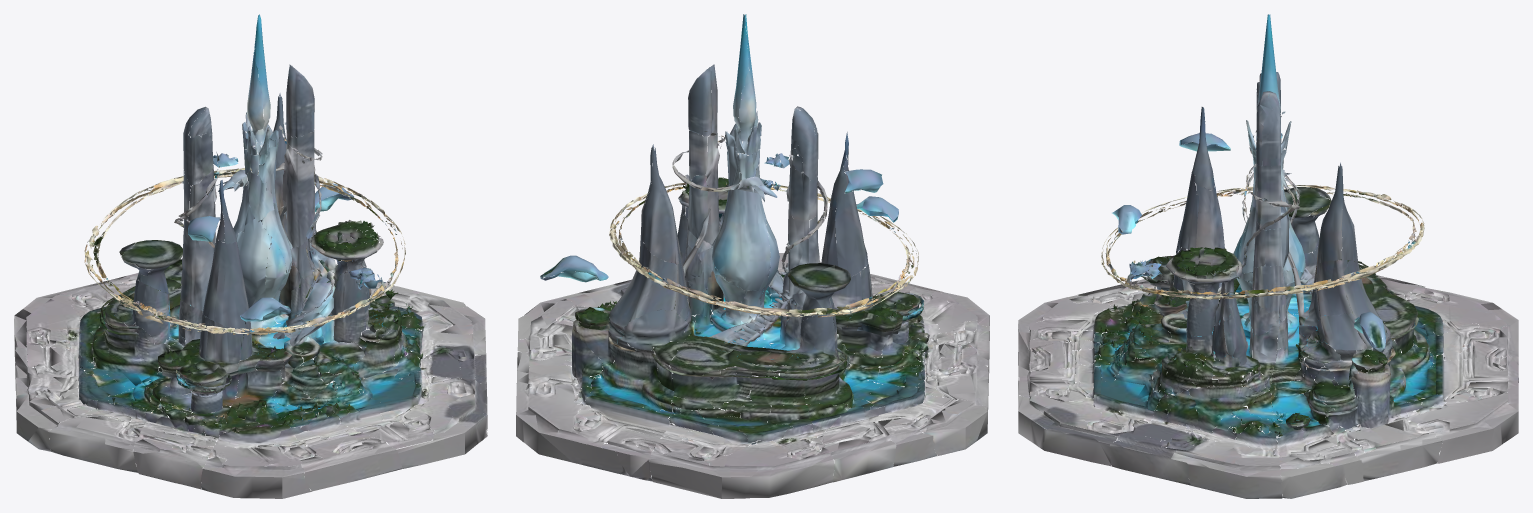
The model's file is district-neo.glb.
3 renders of one model, left to right at view 1: azimuth 30°, elevation 25°; view 2: azimuth 150°, elevation 25°; view 3: azimuth 270°, elevation 25°, orthographic.
Visible parts, largest first — view 1: tripo_node_9c18bd5a-b65d-4456-85b5-e72f291003d3; view 2: tripo_node_9c18bd5a-b65d-4456-85b5-e72f291003d3; view 3: tripo_node_9c18bd5a-b65d-4456-85b5-e72f291003d3.
Part boxes in pixels (box(x1,y1,x2,y2)): tripo_node_9c18bd5a-b65d-4456-85b5-e72f291003d3: box(14, 14, 487, 498); tripo_node_9c18bd5a-b65d-4456-85b5-e72f291003d3: box(516, 14, 989, 498); tripo_node_9c18bd5a-b65d-4456-85b5-e72f291003d3: box(1018, 14, 1518, 498).
Size of the model in its own units: 1 by 0.7946 by 0.9521.
Materials: 1 (1 with a texture image).
